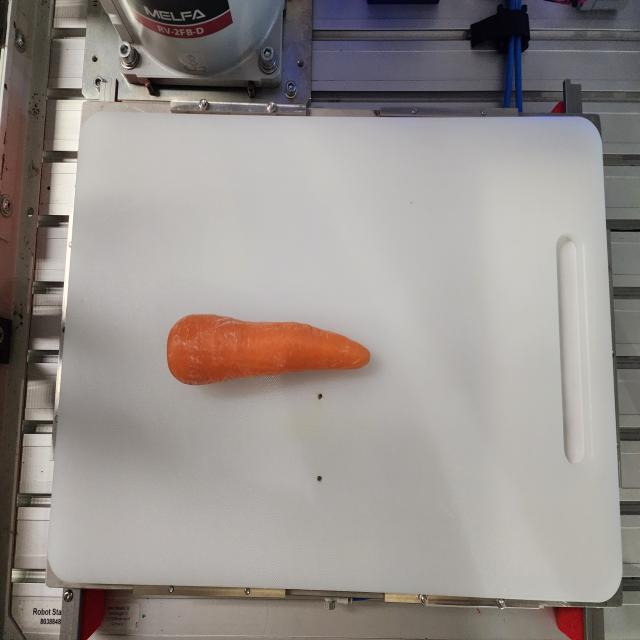carrot: (166, 312, 371, 386)
